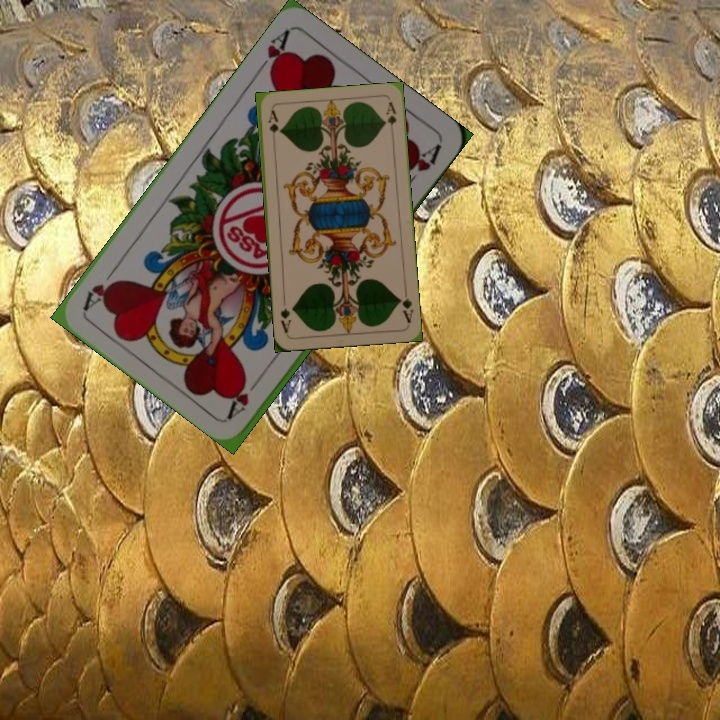GA: (395, 285, 416, 326), (264, 106, 281, 147)
HA: (224, 369, 267, 421), (251, 26, 292, 80)
